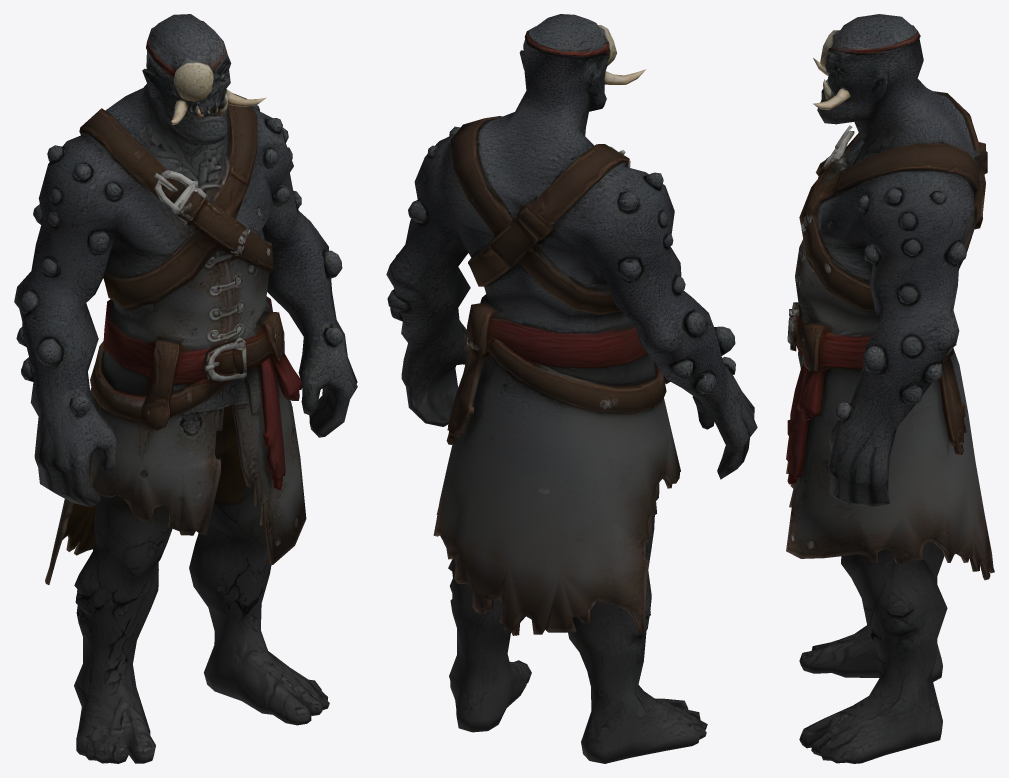
The model's file is selected.glb.
3 renders of one model, left to right at view 1: azimuth 30°, elevation 25°; view 2: azimuth 150°, elevation 25°; view 3: azimuth 270°, elevation 25°, orthographic. The views are drawn at different scales.
Visible parts, largest first — view 1: tripo_node_ef7d6653-b1a3-4424-9b79-10da3cab701f; view 2: tripo_node_ef7d6653-b1a3-4424-9b79-10da3cab701f; view 3: tripo_node_ef7d6653-b1a3-4424-9b79-10da3cab701f.
Boxes of the visible parts, <box> form: tripo_node_ef7d6653-b1a3-4424-9b79-10da3cab701f: <box>14,14,357,763</box>; tripo_node_ef7d6653-b1a3-4424-9b79-10da3cab701f: <box>386,14,757,763</box>; tripo_node_ef7d6653-b1a3-4424-9b79-10da3cab701f: <box>786,14,994,763</box>.
Bounding box in the file's own units: 0.4902 × 0.998 × 0.2754.
Materials: 1 (1 with a texture image).
